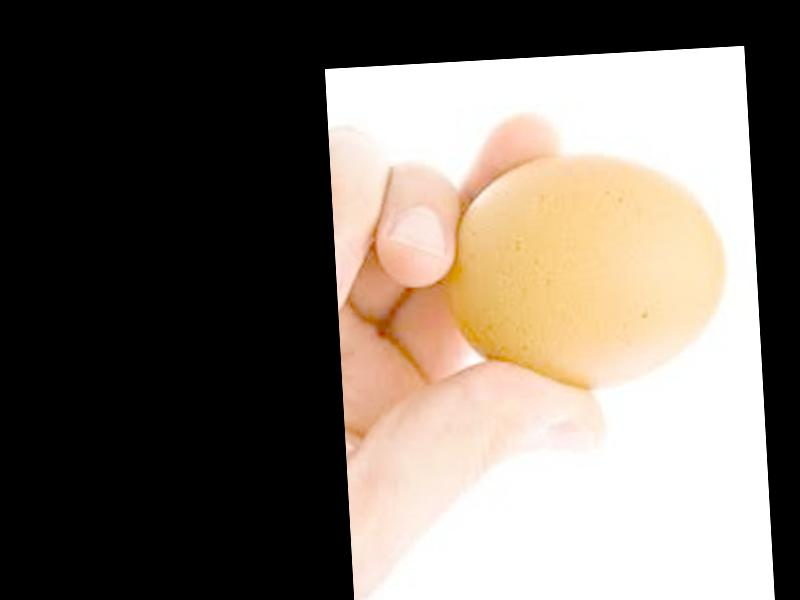Eggs: (447, 145, 733, 396)
